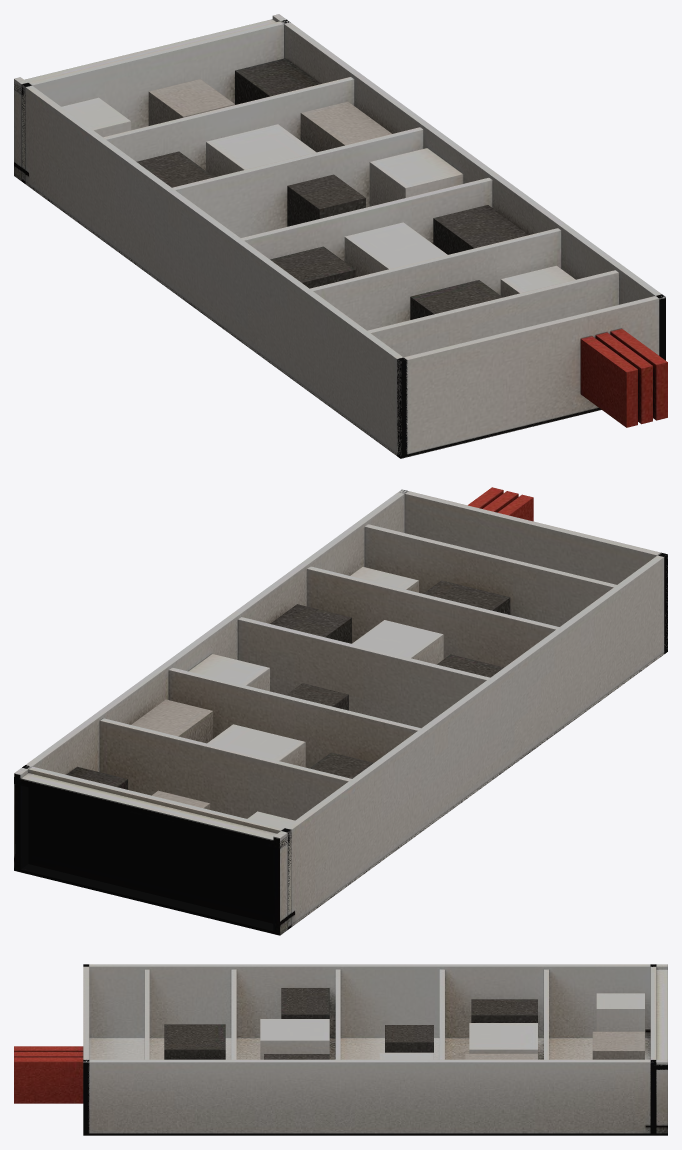
3 views of the same model, one above another, from view 1: azimuth 30°, elevation 25°; view 2: azimuth 150°, elevation 25°; view 3: azimuth 270°, elevation 25° (orthographic). The views are drawn at different scales.
Parts seen in each view (by area): view 1: A1_final.001; view 2: A1_final.001; view 3: A1_final.001.
Boxes of the visible parts, <box> form: A1_final.001: <box>14,14,667,458</box>; A1_final.001: <box>14,487,667,935</box>; A1_final.001: <box>14,964,667,1135</box>.
Bounding box in the file's own units: 0.8 × 0.28 × 2.26.
1 material, 1 textured.
